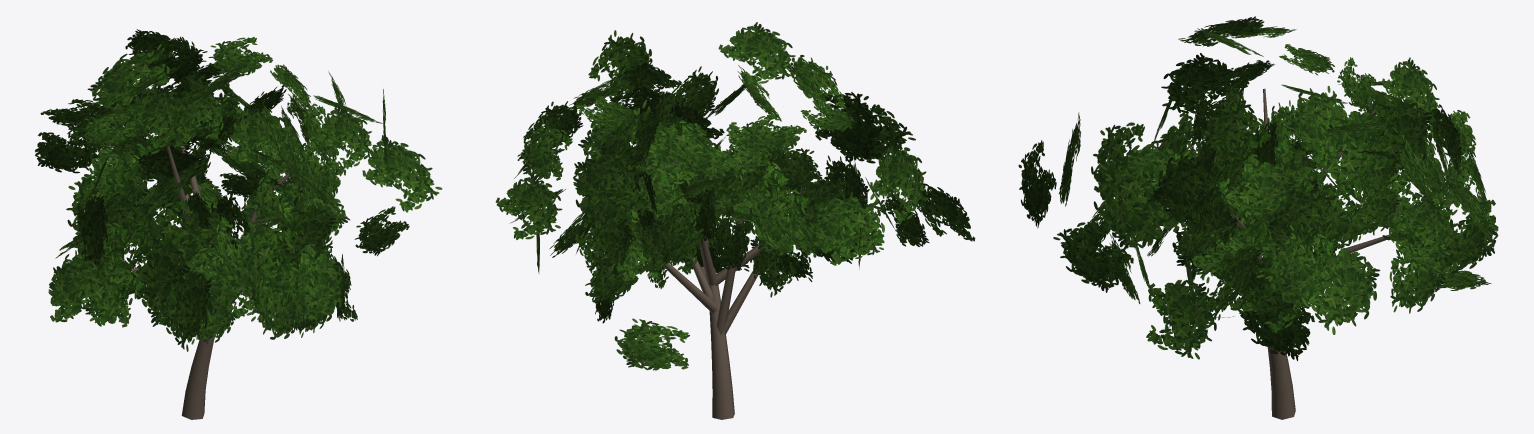
Rendered from Cay1_AnQua.glb.
The picture shows the model from 3 angles, left to right: view 1: azimuth 30°, elevation 25°; view 2: azimuth 150°, elevation 25°; view 3: azimuth 270°, elevation 25°; orthographic projection. The views are drawn at different scales.
Parts seen in each view (by area): view 1: Cay1_AnQua; view 2: Cay1_AnQua; view 3: Cay1_AnQua.
Part boxes in pixels (box(x1,y1,x2,y2)): Cay1_AnQua: box(35, 29, 442, 419); Cay1_AnQua: box(495, 22, 975, 419); Cay1_AnQua: box(1018, 16, 1498, 419).
Size of the model in its own units: 8.35 by 6.69 by 7.85.
2 materials, 1 textured.
